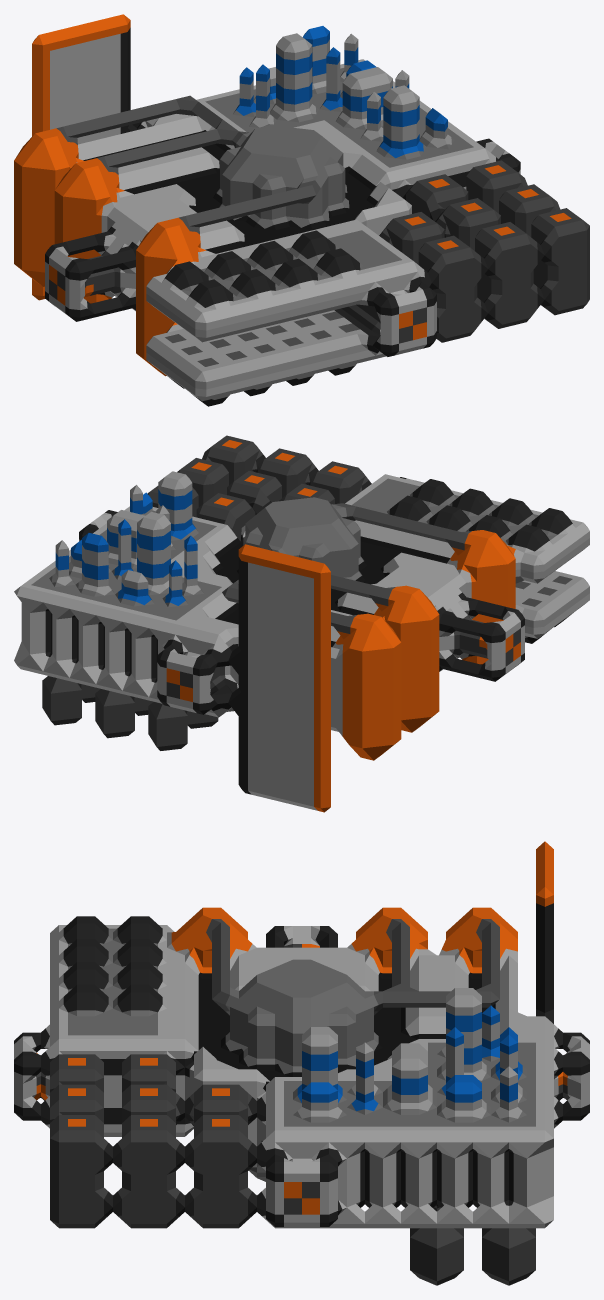
File: factory_medium.fbx
The picture shows the model from 3 angles, top to bottom: view 1: azimuth 30°, elevation 25°; view 2: azimuth 150°, elevation 25°; view 3: azimuth 270°, elevation 25°; orthographic projection. The views are drawn at different scales.
Parts seen in each view (by area): view 1: factory_medium; view 2: factory_medium; view 3: factory_medium.
Boxes of the visible parts, <box> form: factory_medium: <box>14,14,589,406</box>; factory_medium: <box>14,435,589,812</box>; factory_medium: <box>14,841,589,1285</box>.
Bounding box in the file's own units: 3200 × 1800 × 3200.
